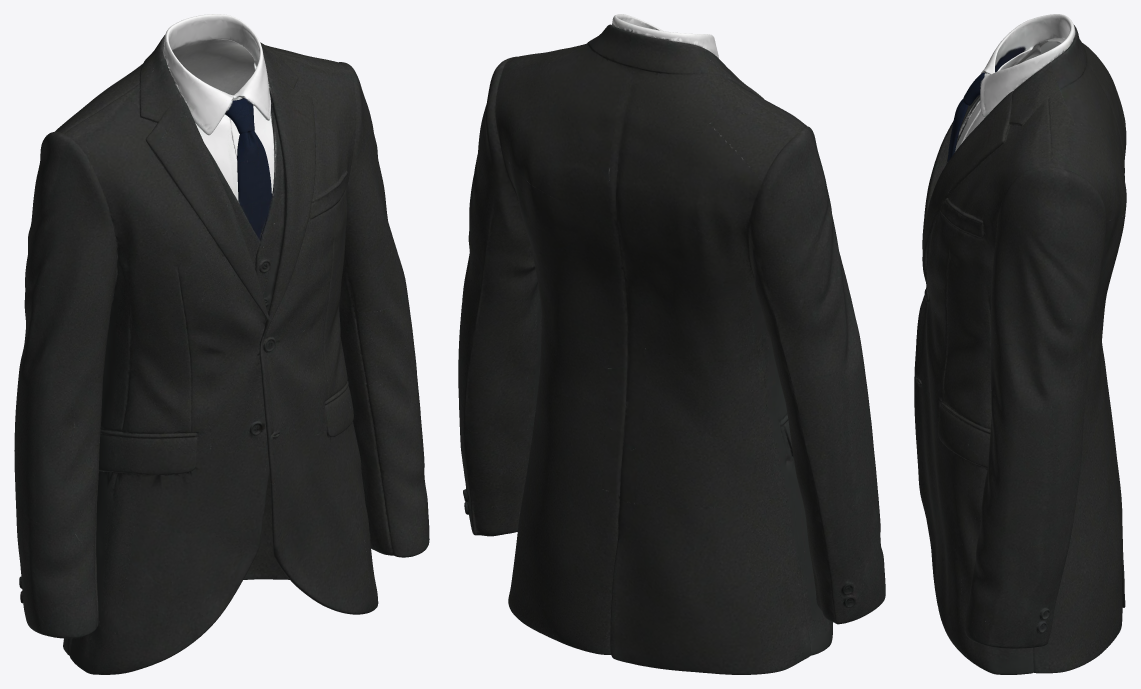
File: gray-suit.glb
3 views of the same model, side by side, from view 1: azimuth 30°, elevation 25°; view 2: azimuth 150°, elevation 25°; view 3: azimuth 270°, elevation 25° (orthographic). The views are drawn at different scales.
Size of the model in its own units: 1.31 by 1.9 by 0.6295.
1 material, 1 textured.
